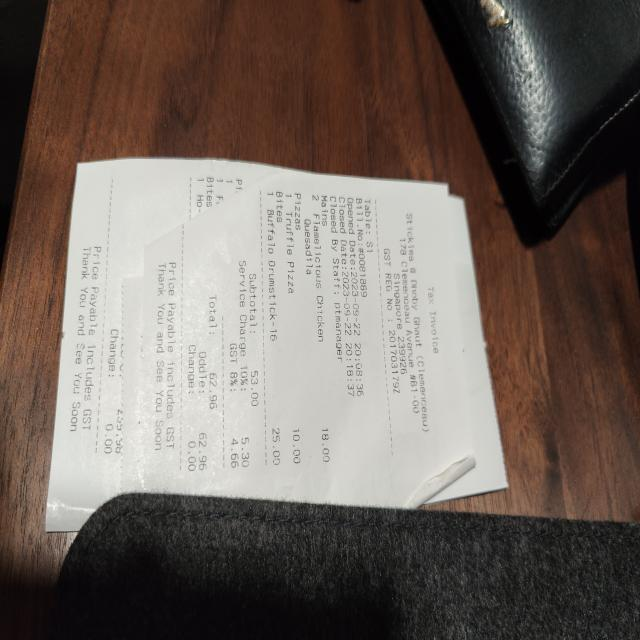bill_region: (204, 188, 330, 486)
